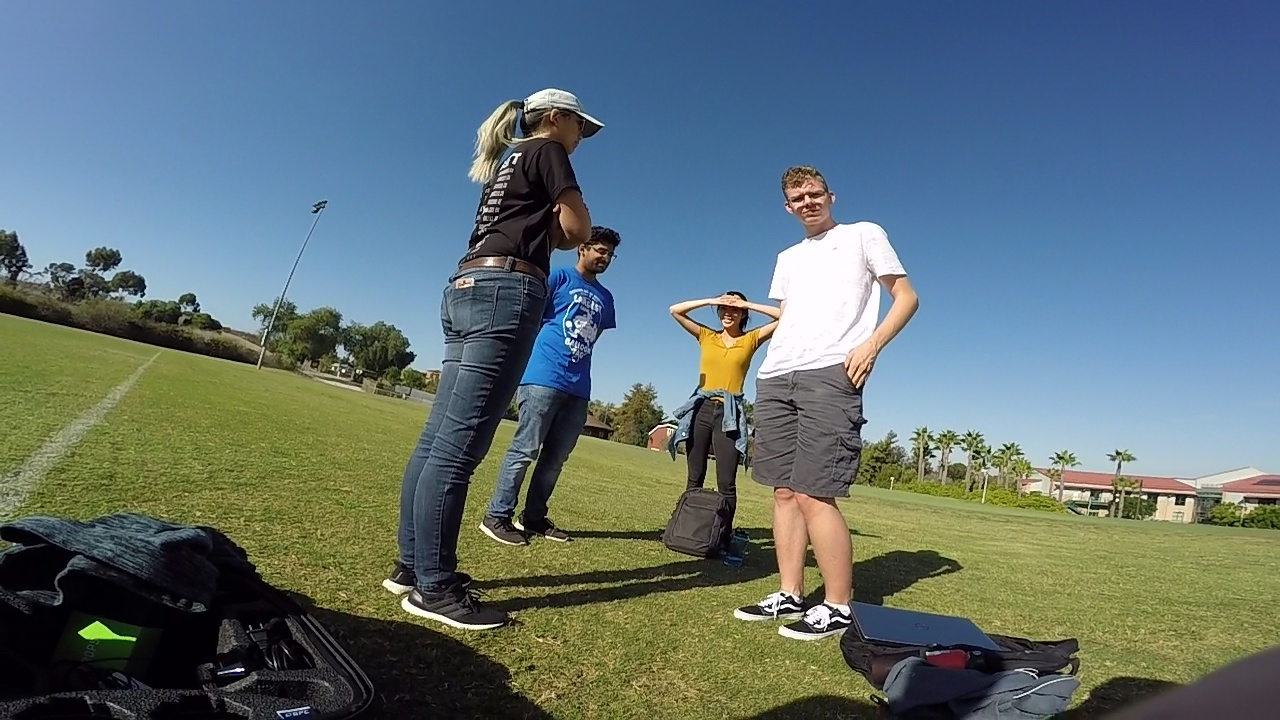person: (371, 84, 610, 611), (733, 157, 920, 643), (480, 215, 616, 540), (662, 286, 773, 550)
